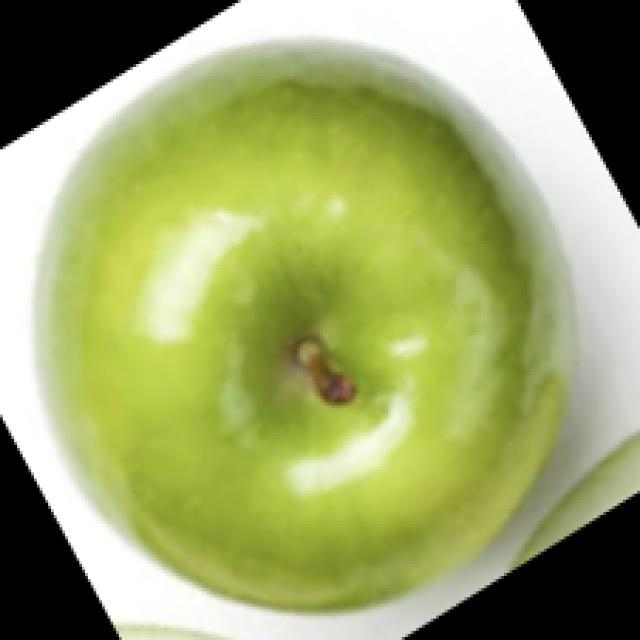Fresh Apple: (29, 26, 578, 608)
